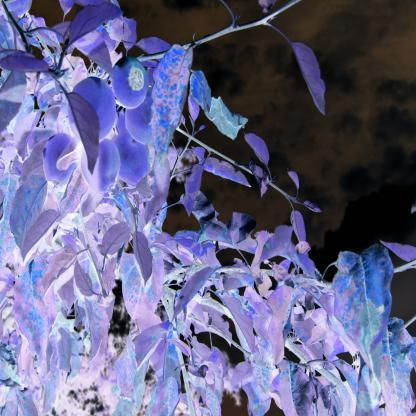Apple rust leaf: (325, 233, 395, 360), (9, 257, 60, 372), (151, 45, 195, 176), (250, 331, 315, 416), (122, 239, 168, 337), (7, 171, 58, 258), (378, 320, 414, 416), (106, 326, 148, 408), (152, 373, 178, 416), (198, 384, 226, 416)
